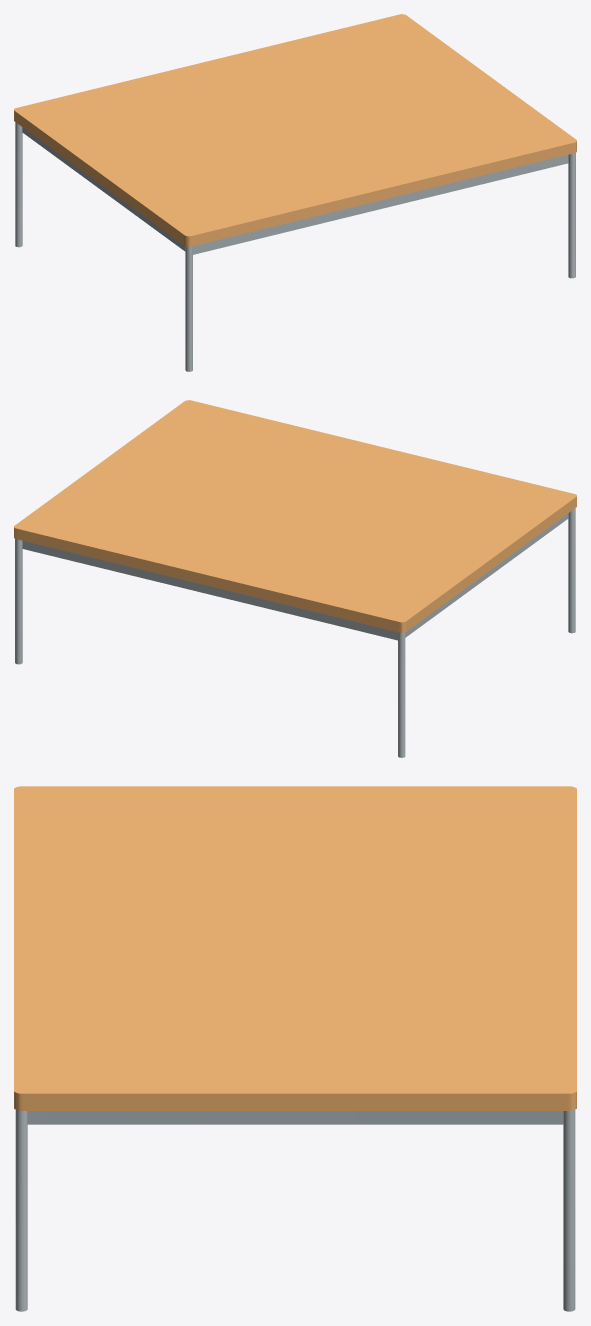
The model's file is Table.fbx.
The picture shows the model from 3 angles, top to bottom: view 1: azimuth 30°, elevation 25°; view 2: azimuth 150°, elevation 25°; view 3: azimuth 270°, elevation 25°; orthographic projection. The views are drawn at different scales.
Visible parts, largest first — view 1: pCylinder5; view 2: pCylinder5; view 3: pCylinder5.
Part boxes in pixels (x1,y1,x2,y2): pCylinder5: (14, 14, 576, 371); pCylinder5: (14, 400, 576, 757); pCylinder5: (14, 786, 576, 1311).
Size of the model in its own units: 2.31 by 0.7648 by 1.78.
Materials: 1 (1 with a texture image).
